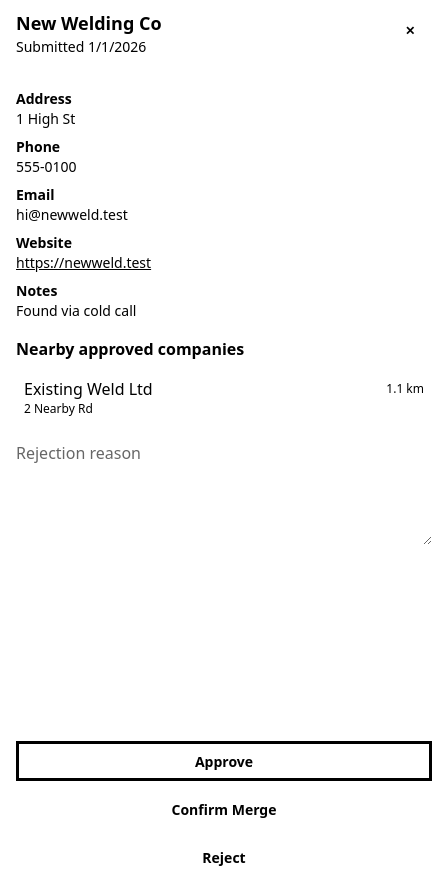
Test: ModerationDetailPanel › two-step merge › clicking the same candidate again disarms
Click the button with test id "merge-candidate-sc-1".
click(88, 389)  # box x1=16 y1=369 x2=432 y2=425
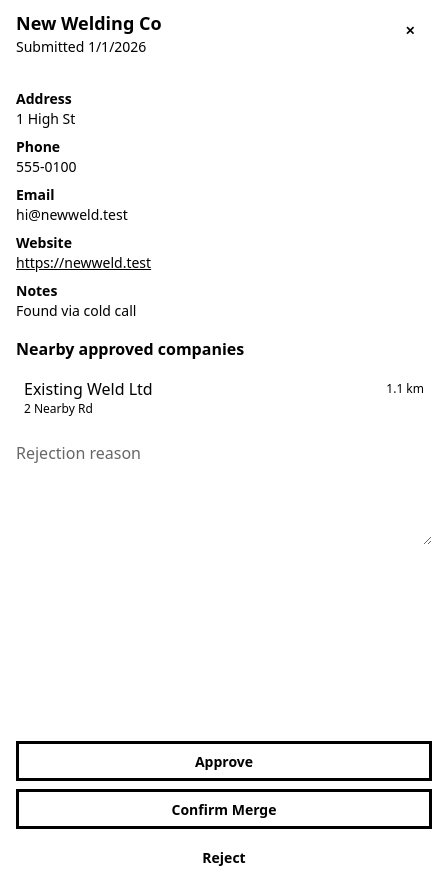
Click the button with test id "merge-candidate-sc-1".
click(88, 389)  # box x1=16 y1=369 x2=432 y2=425
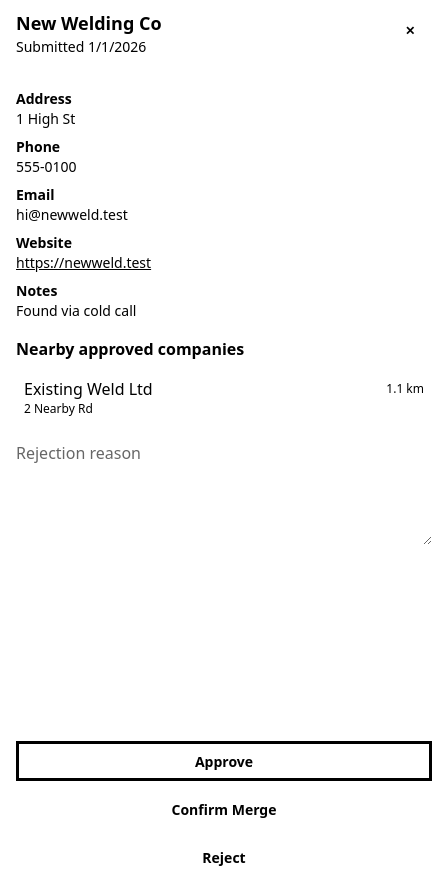
Expected: the button "Confirm Merge" is disabled, x1=16 y1=789 x2=432 y2=829
